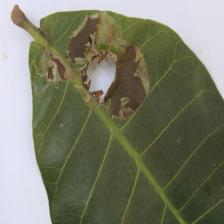leaf miner: (9, 4, 224, 223)
